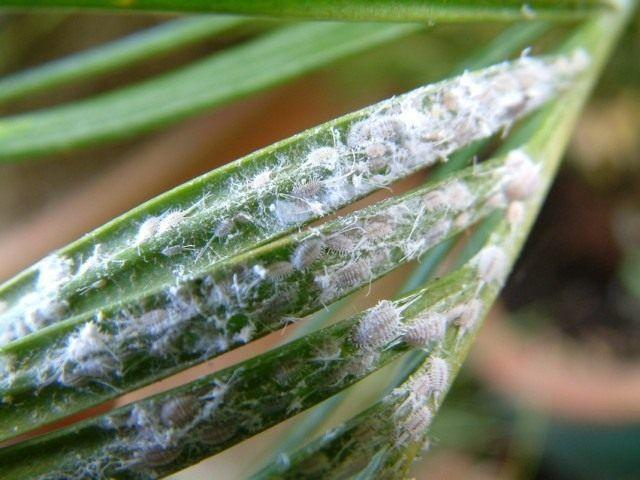pseudococcidae: (0, 50, 594, 479)
